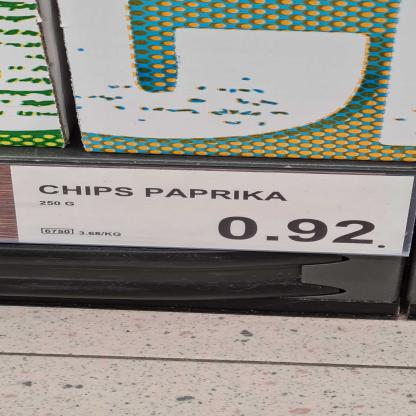prtg: (7, 165, 415, 259)
